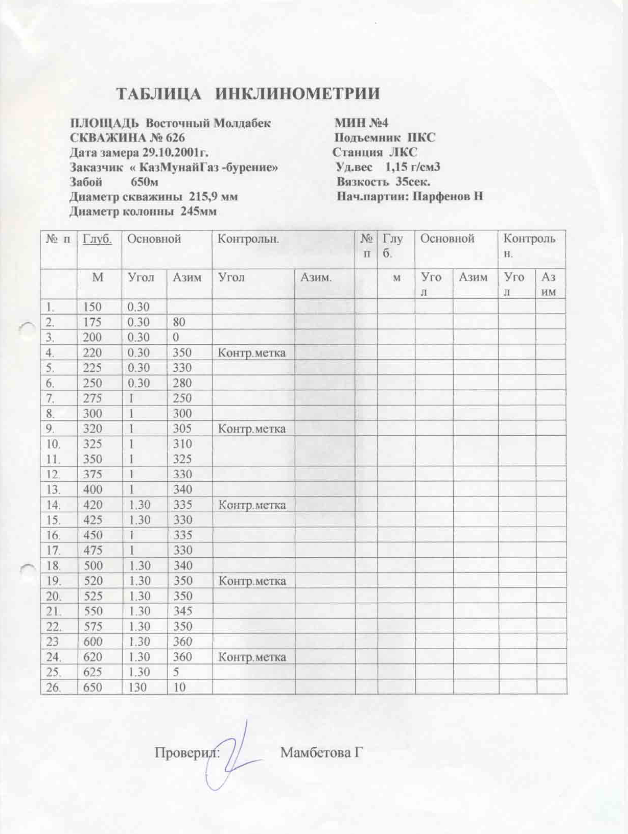Bordered: (38, 227, 567, 699)
